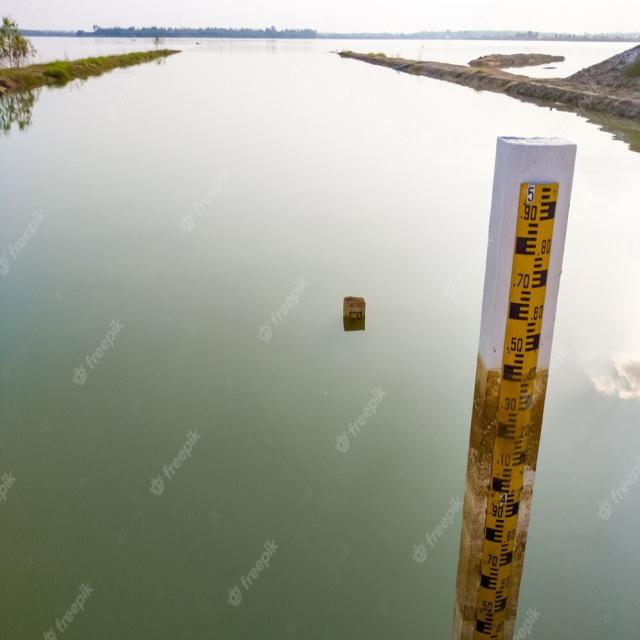staff: (468, 173, 564, 640)
